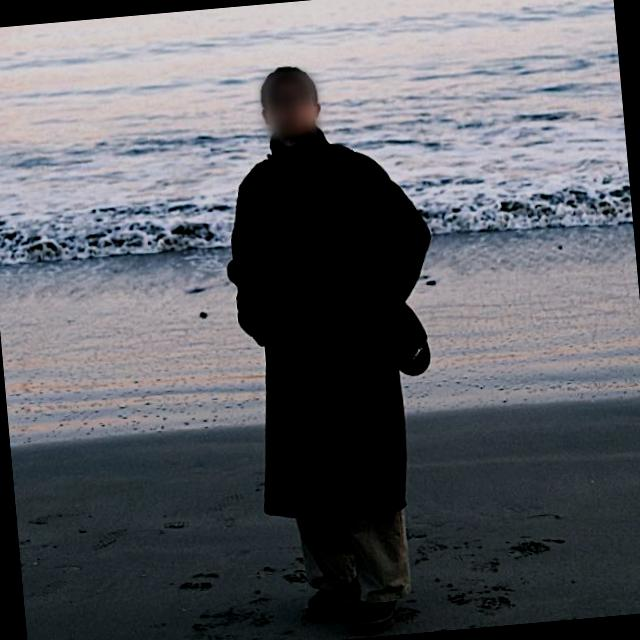coat: (212, 120, 450, 524)
denimpants: (301, 505, 418, 612)
